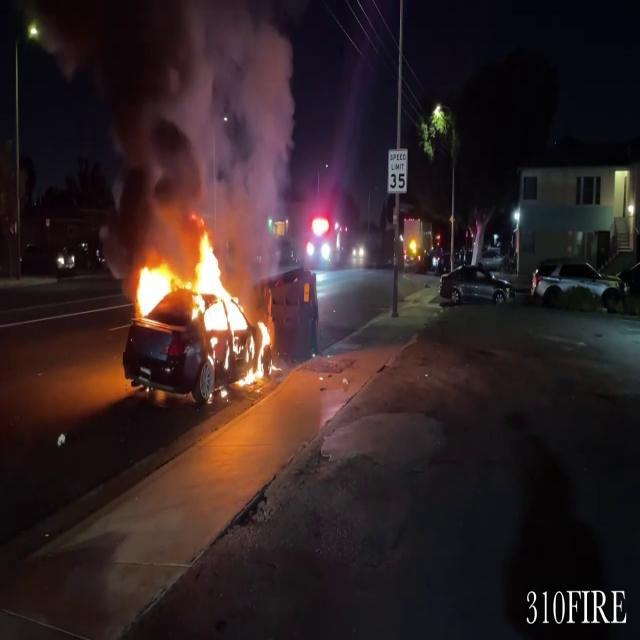Fire: (190, 225, 274, 388), (130, 252, 178, 322)
Smoke: (49, 0, 301, 234)
